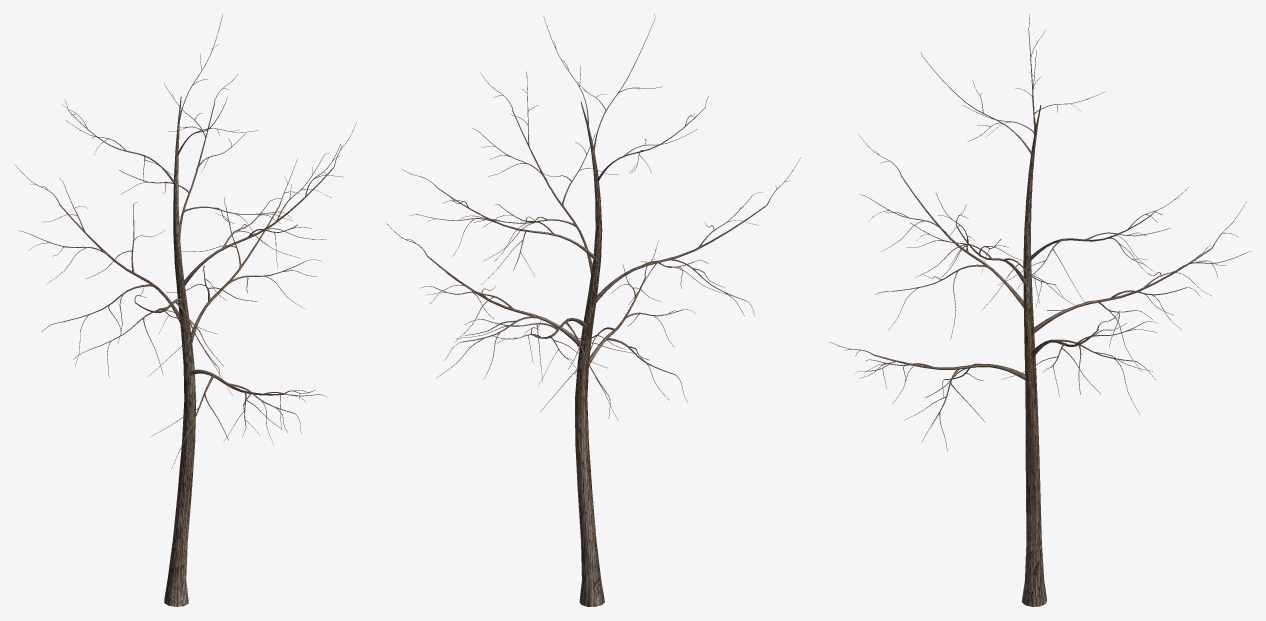
File: deadTree02.FBX
The picture shows the model from 3 angles, left to right: view 1: azimuth 30°, elevation 25°; view 2: azimuth 150°, elevation 25°; view 3: azimuth 270°, elevation 25°; orthographic projection.
Visible parts, largest first — view 1: deadTree02; view 2: deadTree02; view 3: deadTree02.
Part boxes in pixels (<box>): deadTree02: <box>14,14,356,606</box>; deadTree02: <box>385,14,800,606</box>; deadTree02: <box>829,14,1251,606</box>.
Size of the model in its own units: 228 by 421 by 281.
Materials: 1 (1 with a texture image).
